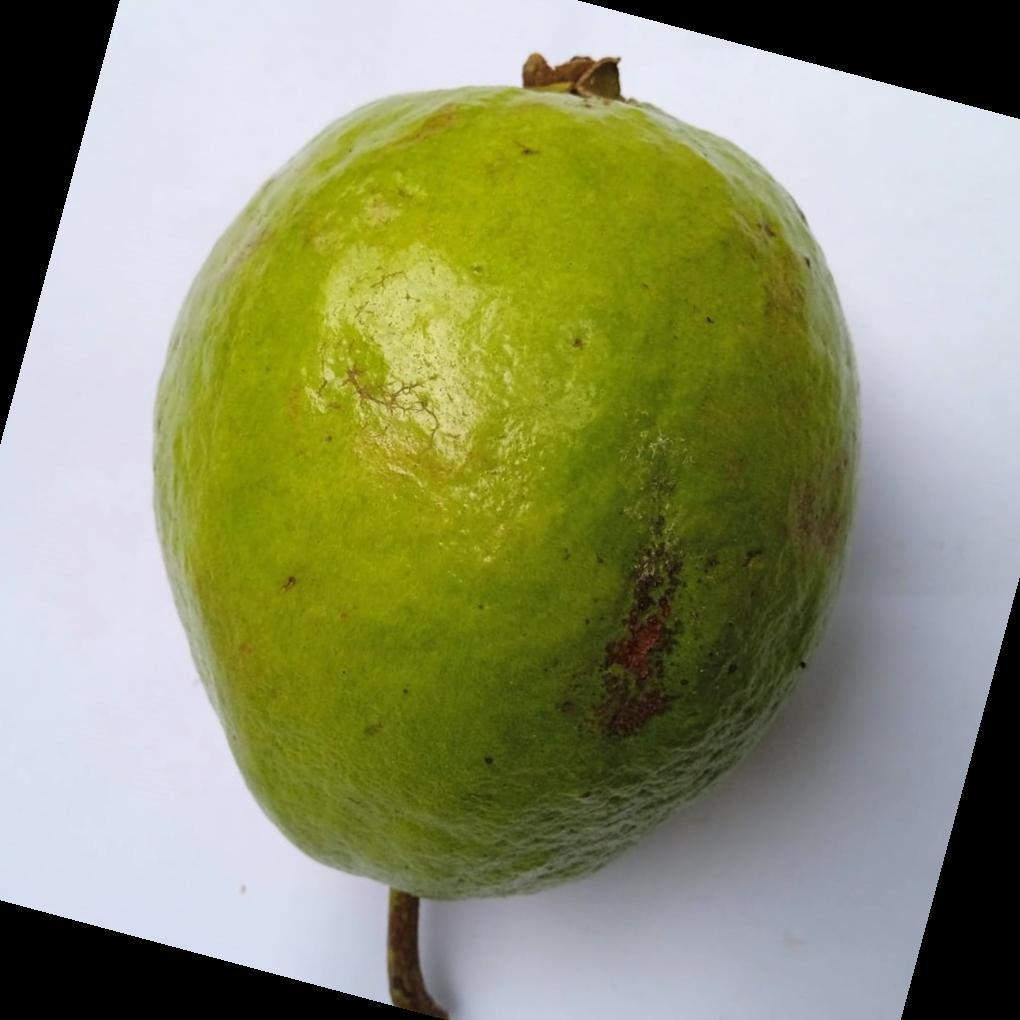FreshGuava: (150, 61, 862, 906)
